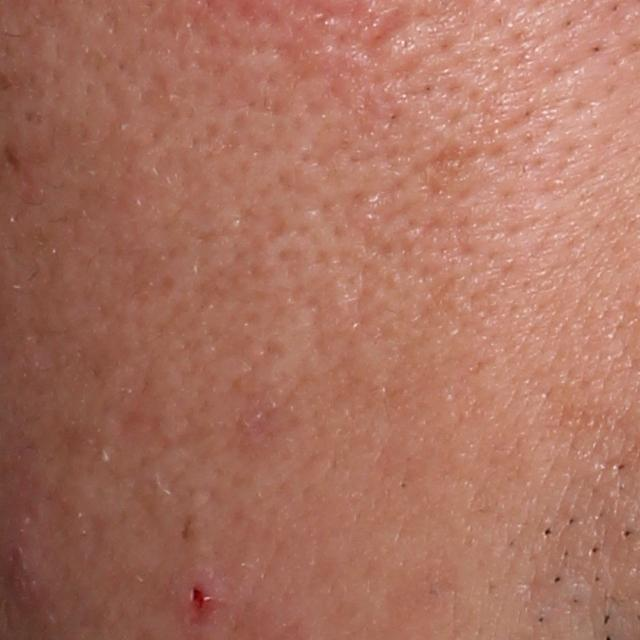atrophic_scar: (416, 139, 489, 207), (356, 3, 416, 51)
papule: (172, 570, 221, 623)
